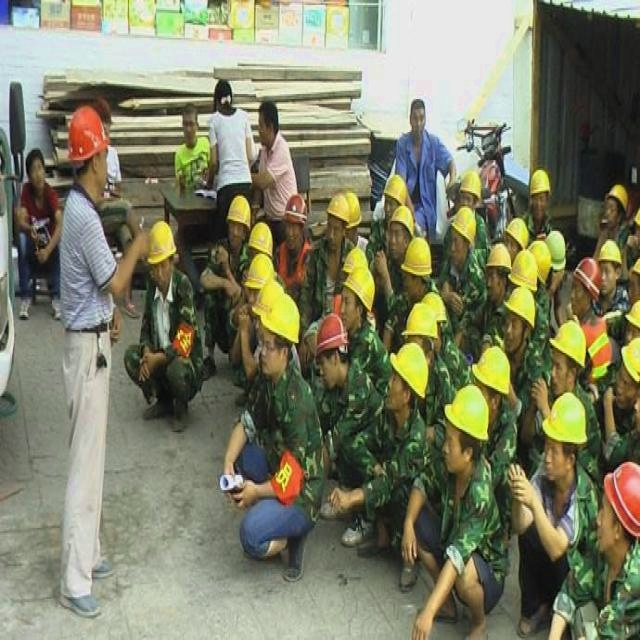Con_Casco: (69, 109, 108, 192), (389, 342, 429, 416)
